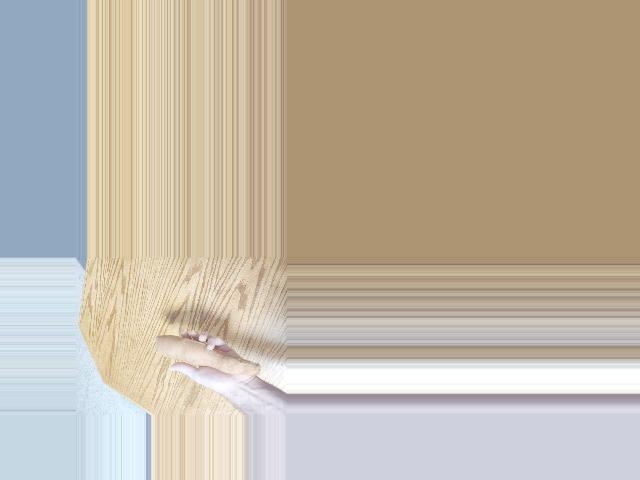sweet_potato: (154, 331, 271, 375)
